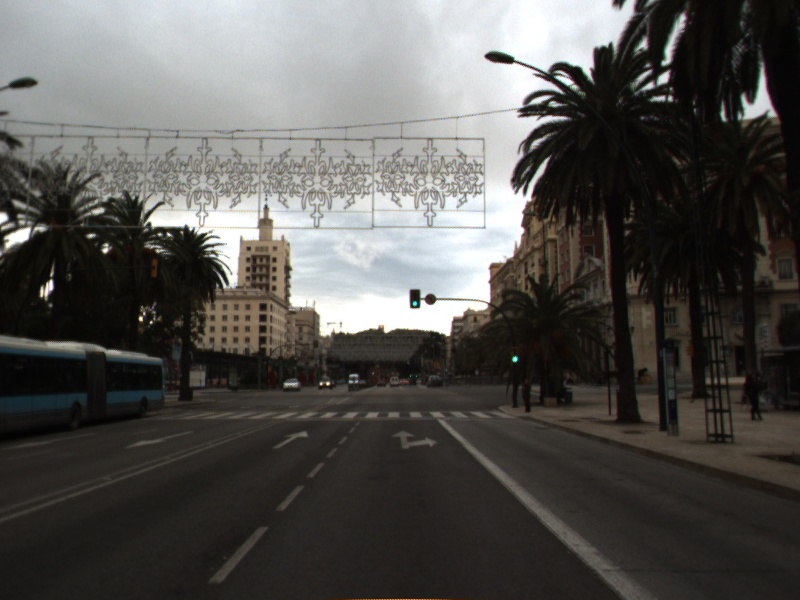STRAIGHT: (270, 428, 310, 451)
STRAIGHT_RIGHT: (390, 428, 439, 451)
